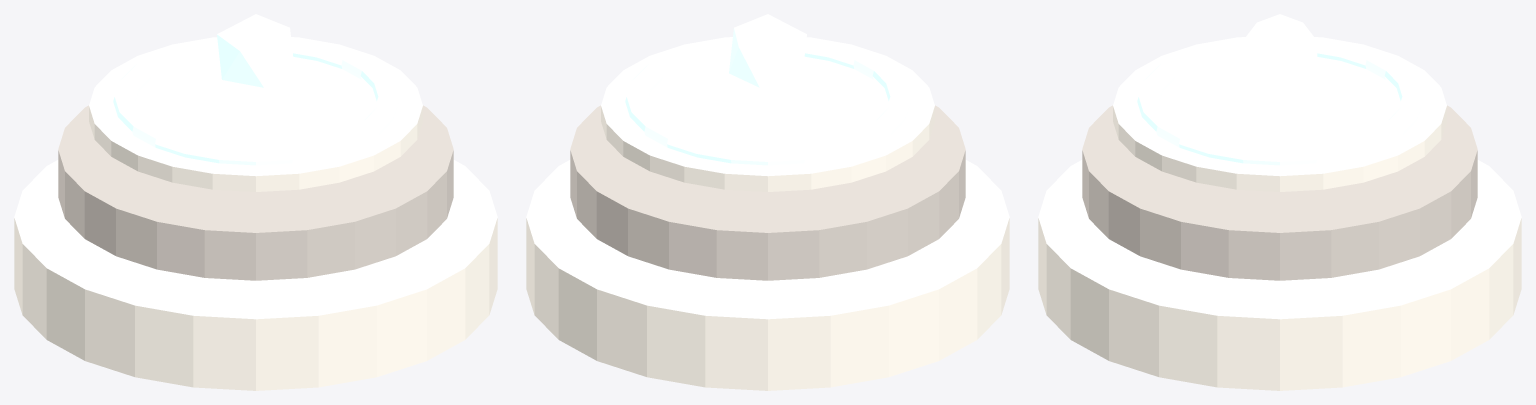
Rendered from altar.glb.
3 renders of one model, left to right at view 1: azimuth 30°, elevation 25°; view 2: azimuth 150°, elevation 25°; view 3: azimuth 270°, elevation 25°, orthographic.
Visible parts, largest first — view 1: altar; view 2: altar; view 3: altar.
Boxes of the visible parts, <box> form: altar: <box>14,14,497,390</box>; altar: <box>526,14,1009,390</box>; altar: <box>1038,14,1521,390</box>.
Bounding box in the file's own units: 1.1 × 0.69 × 1.1.
